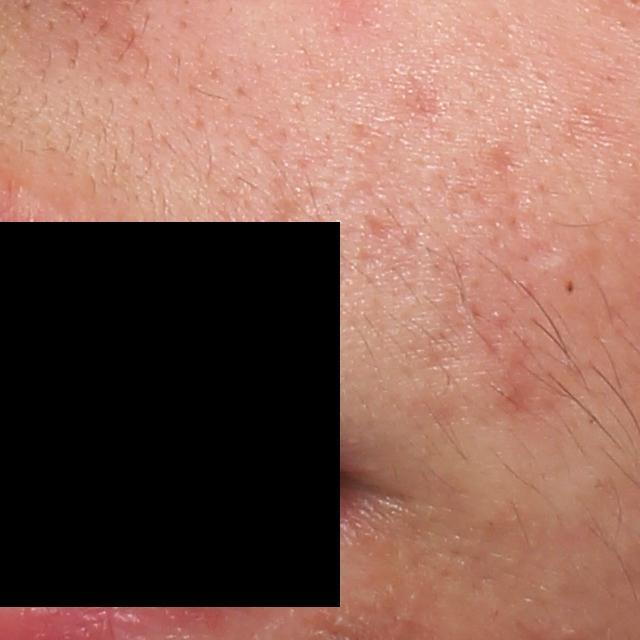atrophic_scar: (496, 338, 542, 415), (488, 146, 527, 183), (362, 213, 391, 243)
comedo: (565, 279, 578, 298)
